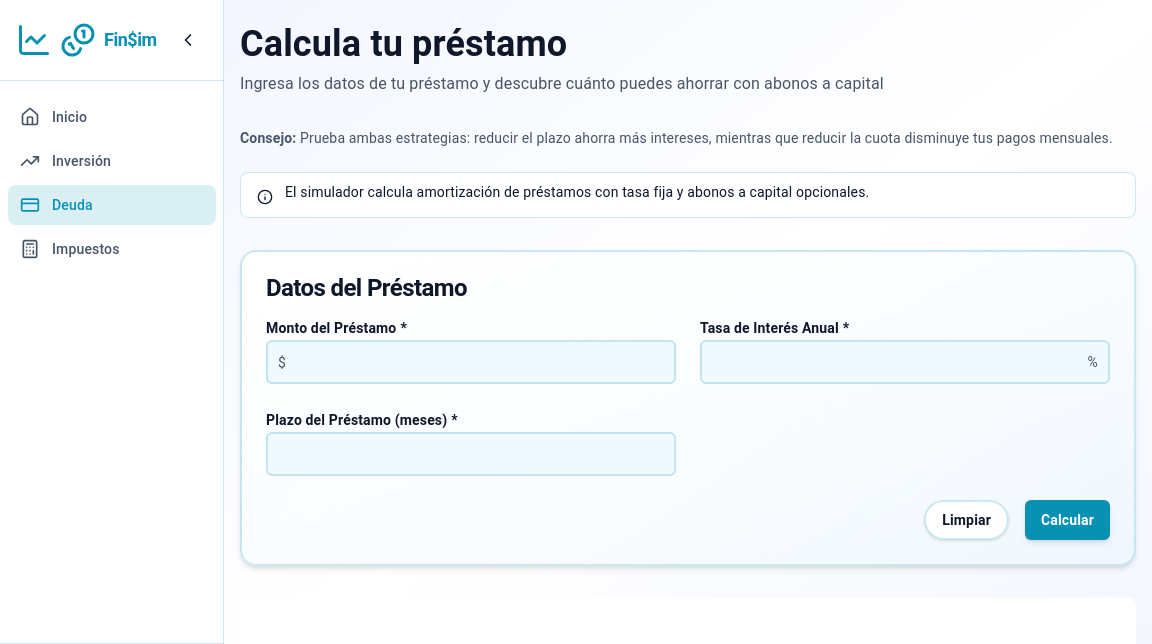
Debt Flow Integration › displays amortization schedule after calculation
The image size is (1152, 644).
Type "200000" into the number field labelled "Monto del Préstamo*" at x=471, y=362, box [266,340,676,384]
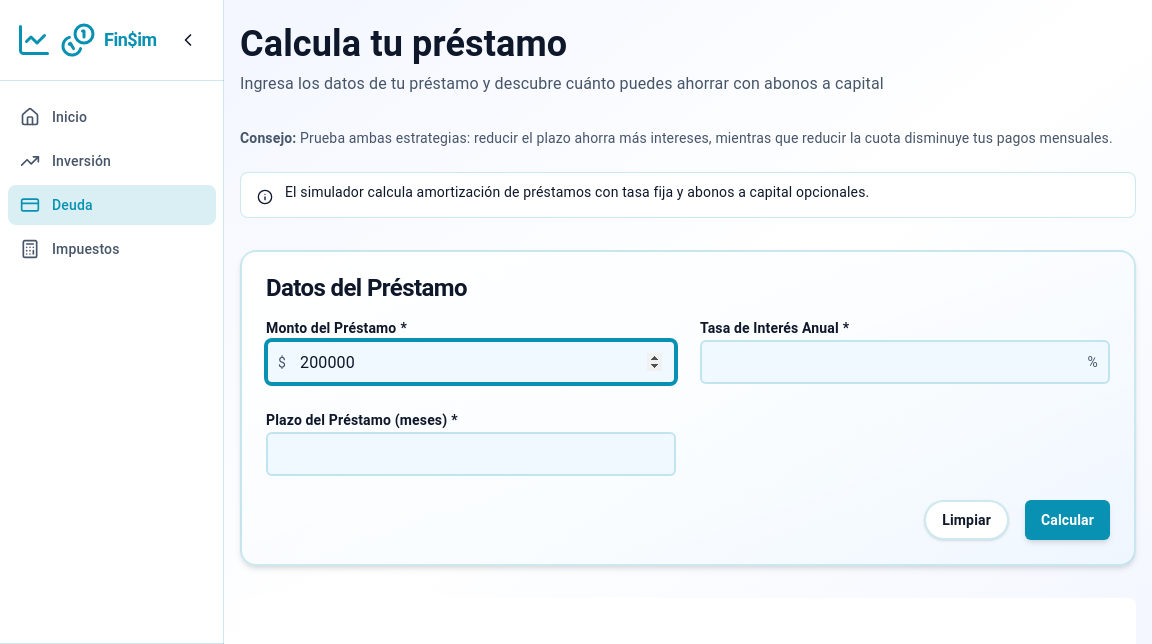
Type "5" into the number field labelled "Tasa de Interés Anual*" at x=905, y=362, box [700,340,1110,384]
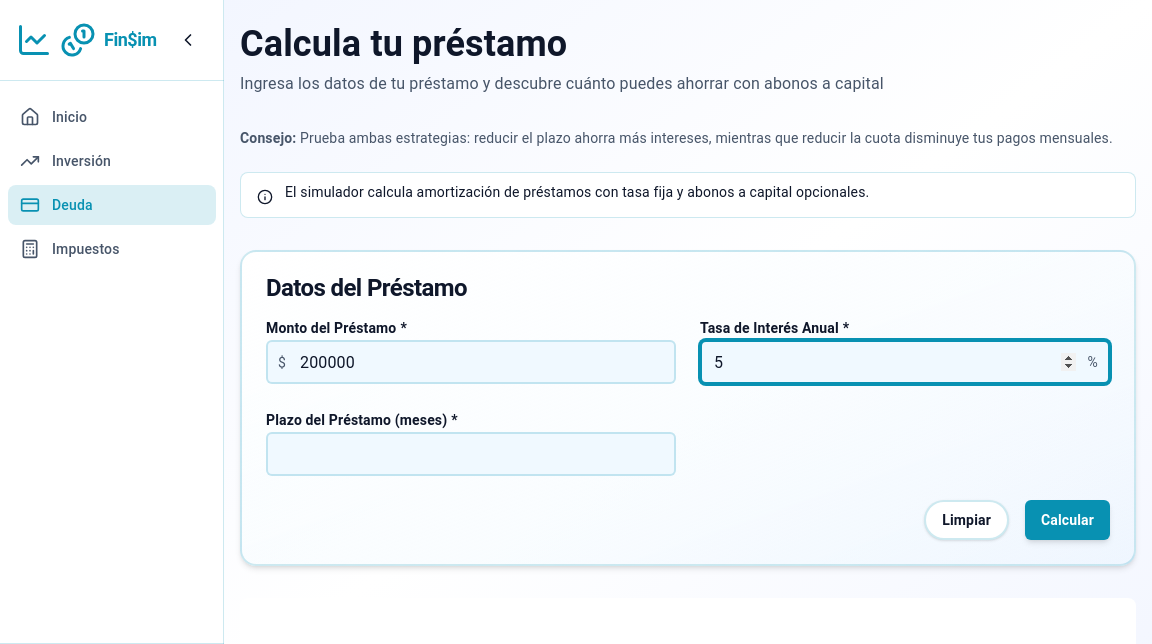
Type "360" into the number field labelled "Plazo del Préstamo (meses)*" at x=471, y=454, box [266,432,676,476]
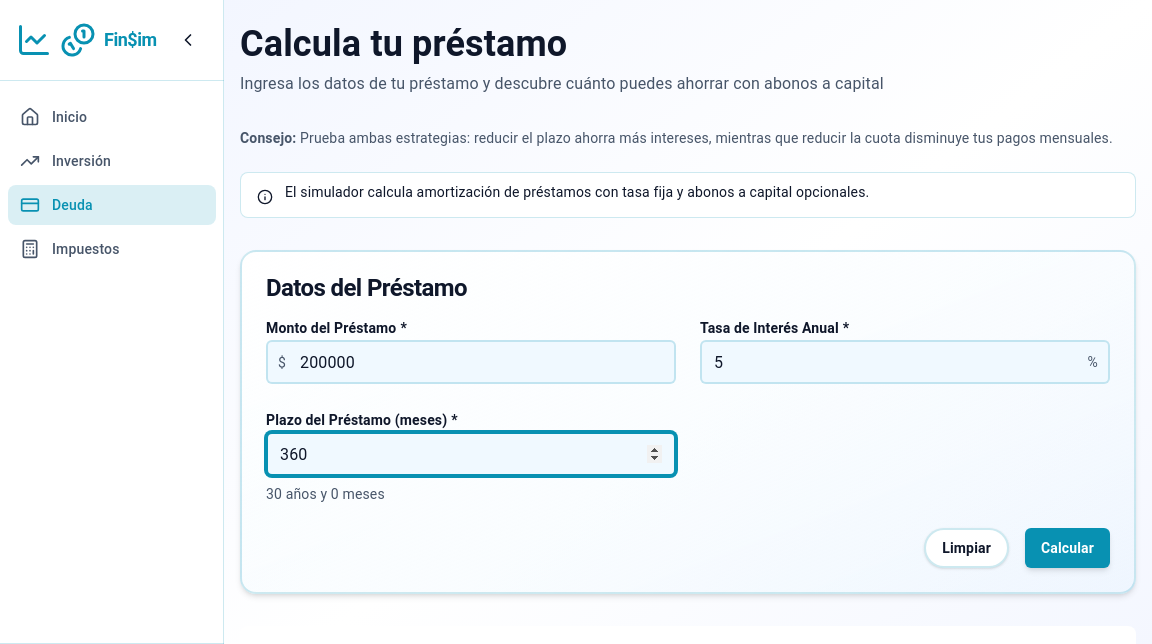
Click the button "Calcular" at x=1067, y=548, box [1025,528,1110,568]
(page scrolled)
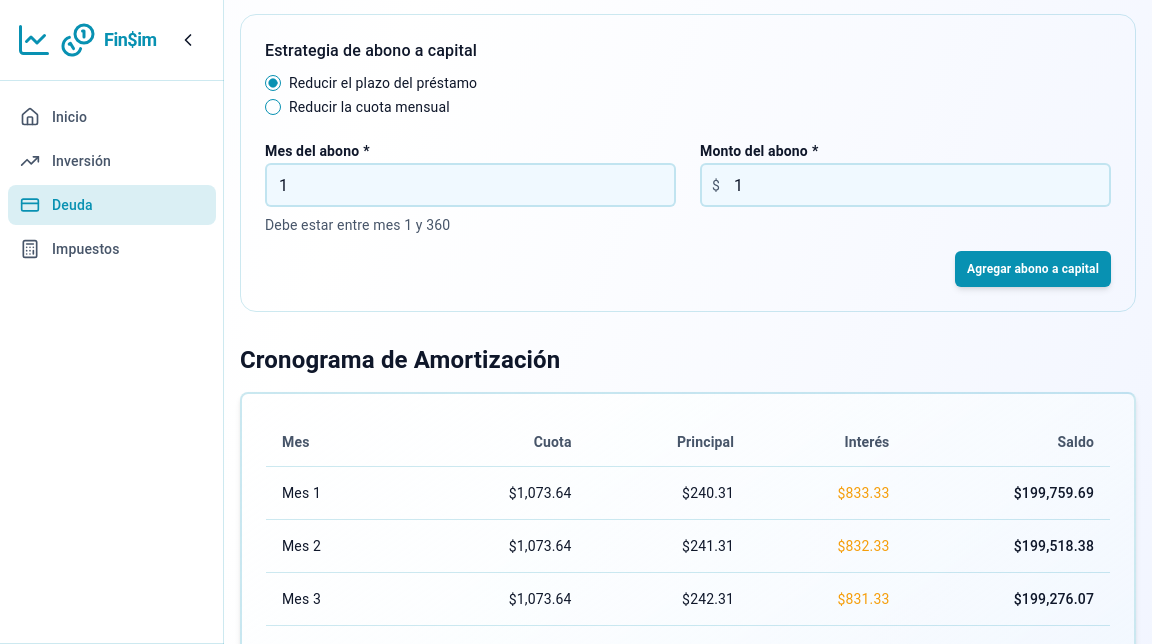
Now the heading "Cronograma de Amortización" is shown, box [240,346,560,374]
